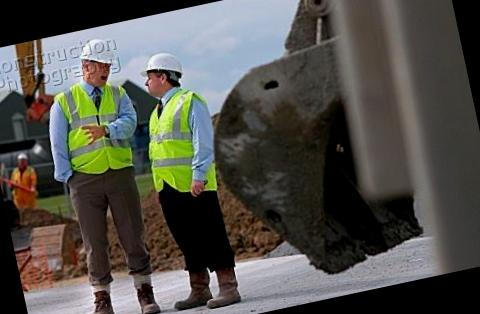helmet: (134, 50, 189, 88)
person: (28, 33, 177, 314), (125, 46, 248, 314)
